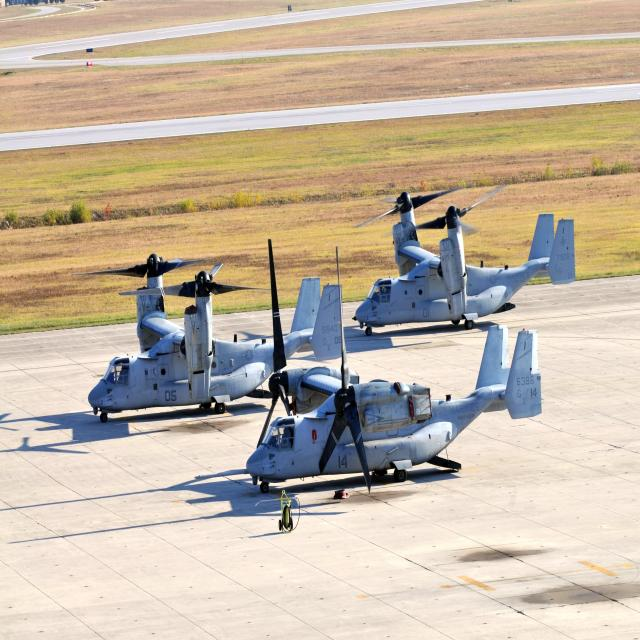MIL_Plane: (194, 238, 544, 494), (0, 253, 212, 423), (350, 181, 578, 336)
